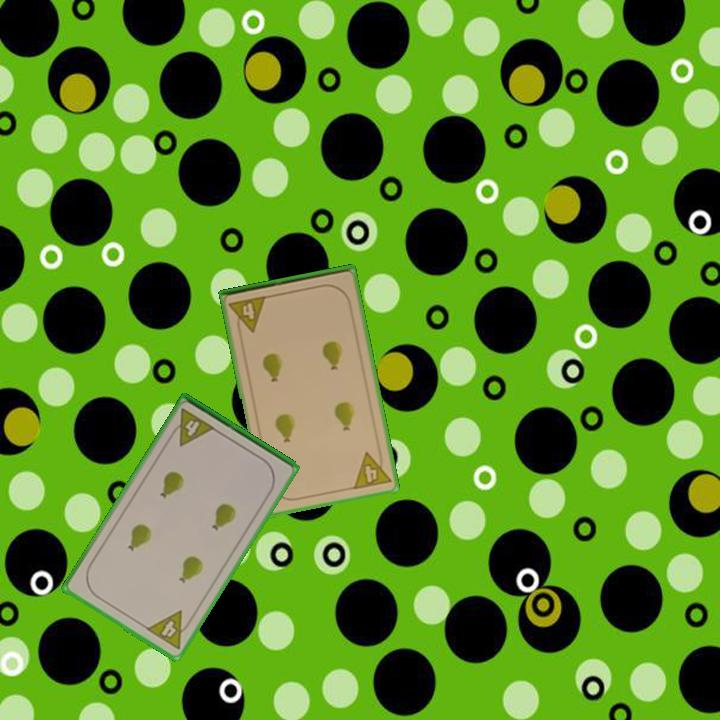4p: (142, 607, 196, 653), (166, 405, 218, 449), (225, 292, 270, 337), (350, 446, 394, 492)
